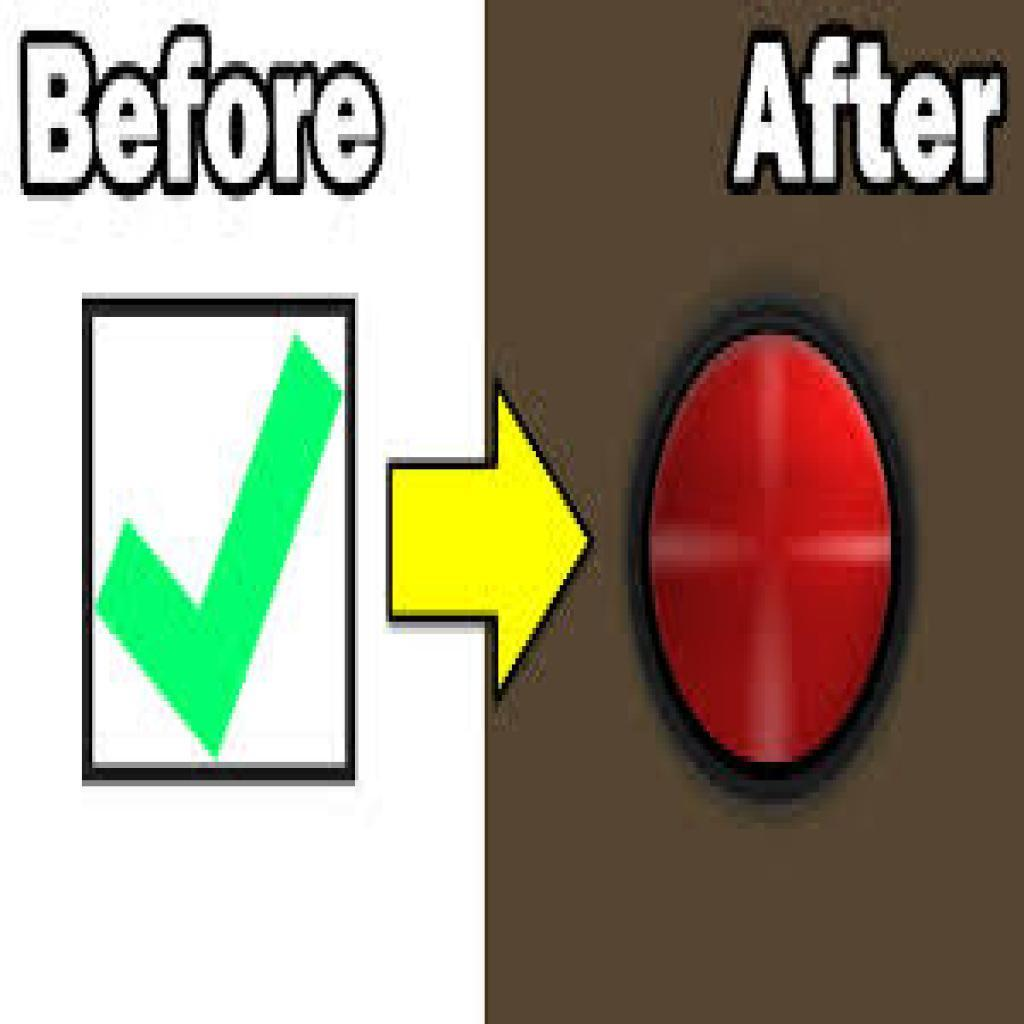checkbox: (82, 297, 359, 789)
